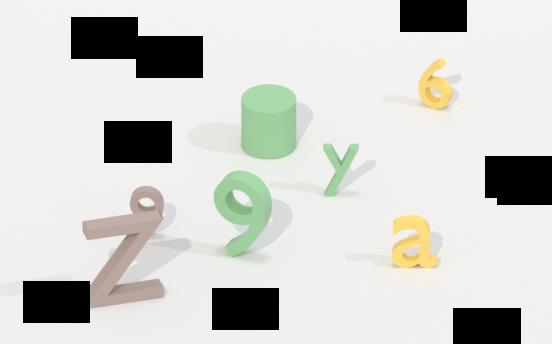6: (416, 53, 457, 111)
9: (209, 164, 278, 261)
Y: (319, 138, 363, 201)
a: (388, 212, 441, 271)
tru: (235, 81, 300, 163)
z: (77, 208, 169, 307)
